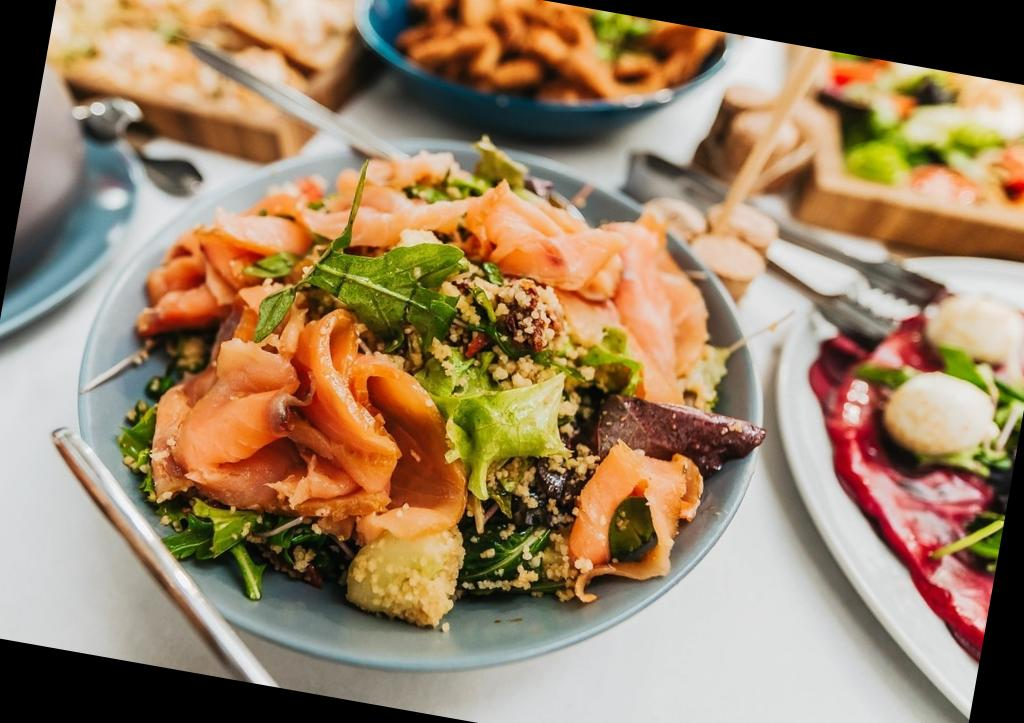salad: (132, 150, 722, 612)
